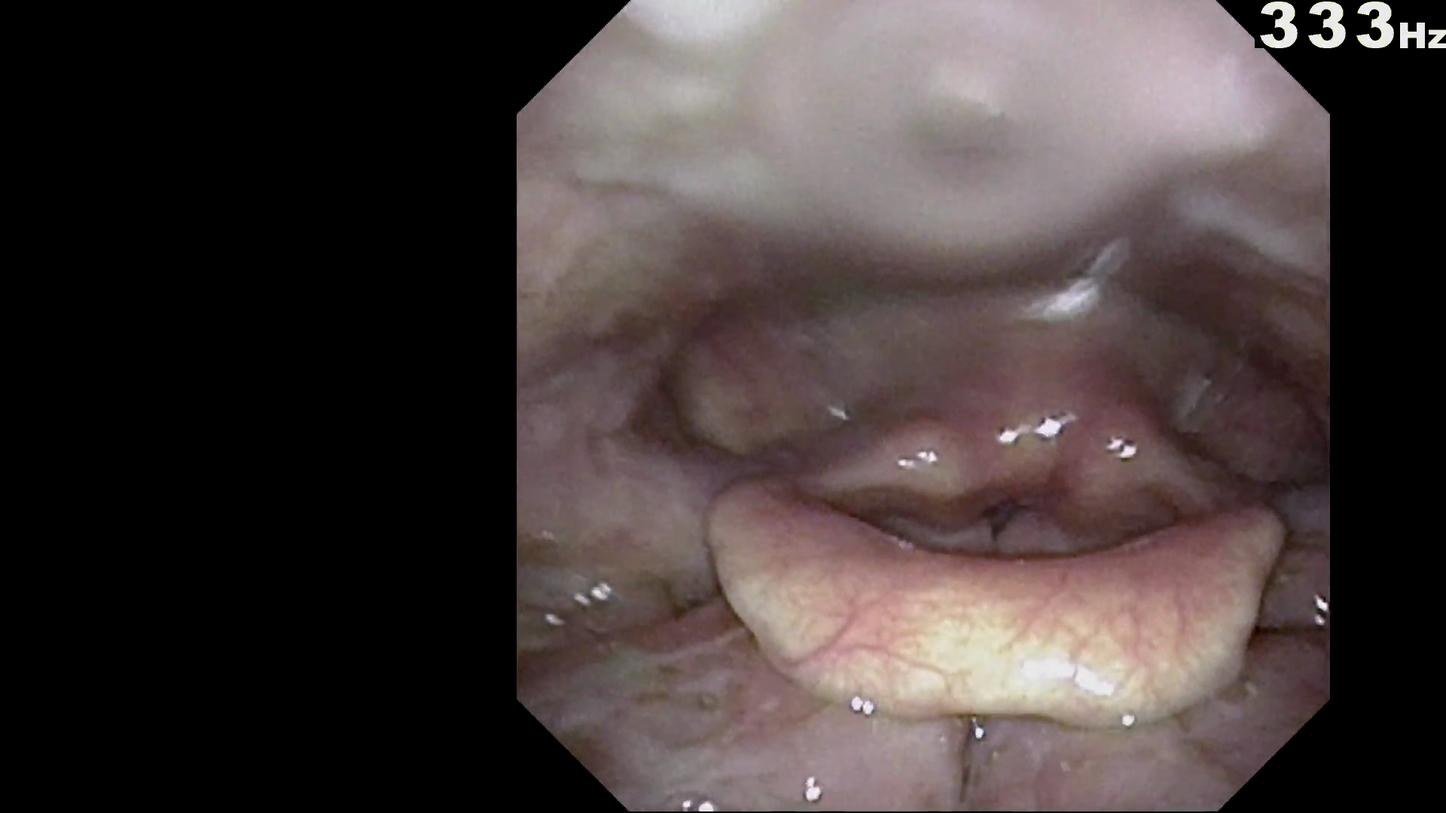epiglottis: (679, 490, 1288, 715)
trachea: (970, 487, 1033, 548)
